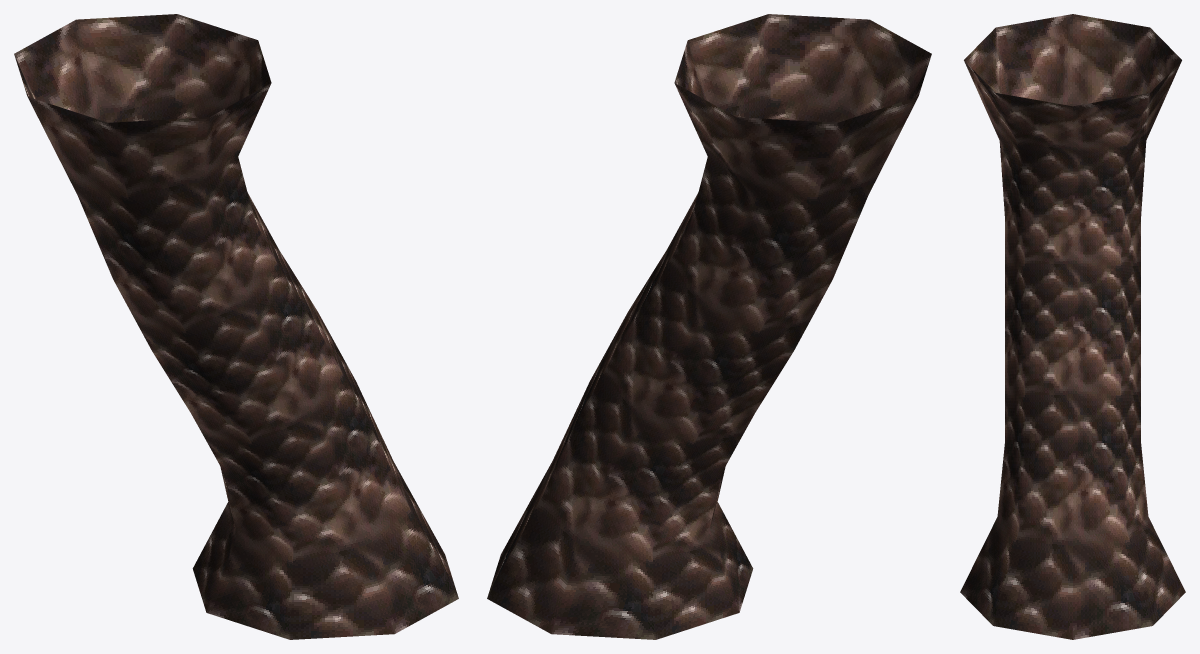
File: Snake.glb
3 views of the same model, side by side, from view 1: azimuth 30°, elevation 25°; view 2: azimuth 150°, elevation 25°; view 3: azimuth 270°, elevation 25° (orthographic). The views are drawn at different scales.
Visible parts, largest first — view 1: NurbsPath; view 2: NurbsPath; view 3: NurbsPath.
Boxes of the visible parts, box(x1,y1,x2,y2) form: NurbsPath: box(14, 14, 458, 639); NurbsPath: box(487, 14, 931, 639); NurbsPath: box(960, 14, 1185, 639).
Bounding box in the file's own units: 3.95 × 5.06 × 2.26.
1 material, 1 textured.
